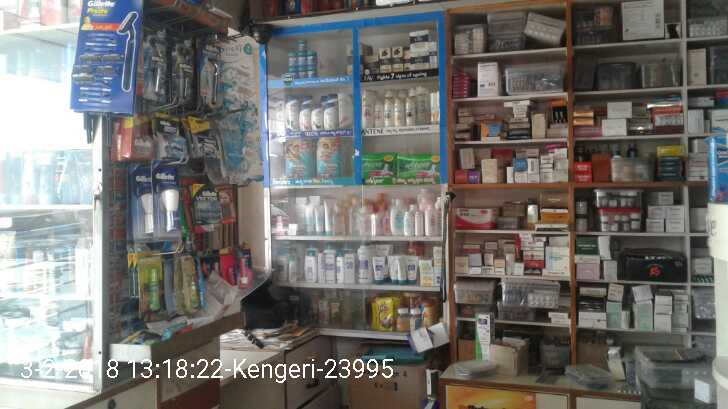beauty: (336, 90, 359, 136), (407, 28, 437, 52), (402, 93, 421, 128), (281, 97, 300, 129), (321, 102, 341, 132), (406, 55, 436, 72), (361, 90, 373, 130), (295, 102, 312, 130), (370, 95, 383, 128), (311, 103, 325, 131), (393, 95, 405, 126), (378, 45, 390, 75), (391, 48, 405, 72), (383, 95, 393, 126)
pharmacy: (283, 138, 316, 178), (358, 152, 396, 180), (315, 136, 340, 178), (397, 154, 438, 179), (286, 65, 317, 78), (295, 35, 310, 51), (306, 49, 319, 65), (286, 51, 298, 66), (295, 51, 306, 66)
